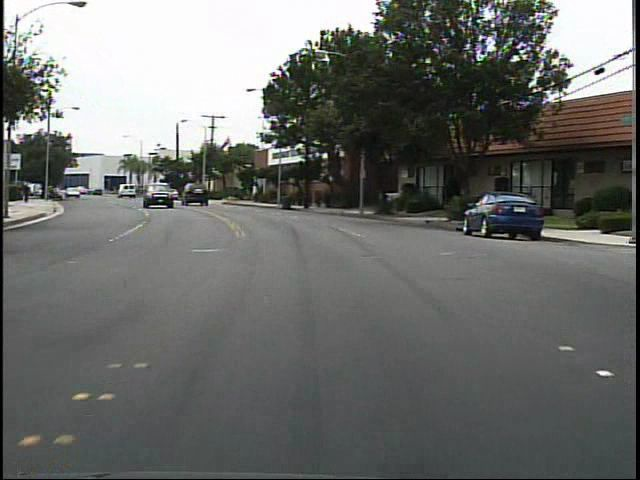person: (21, 181, 32, 205)
